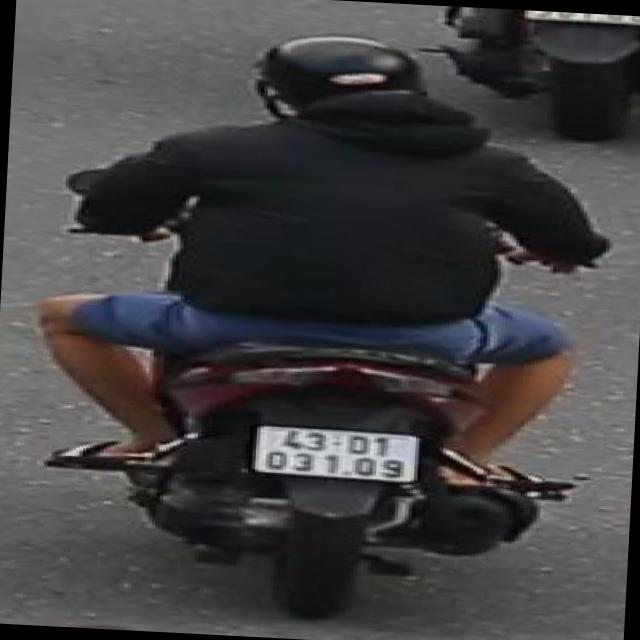LP: (244, 422, 427, 490)
helmet: (250, 27, 436, 136)
